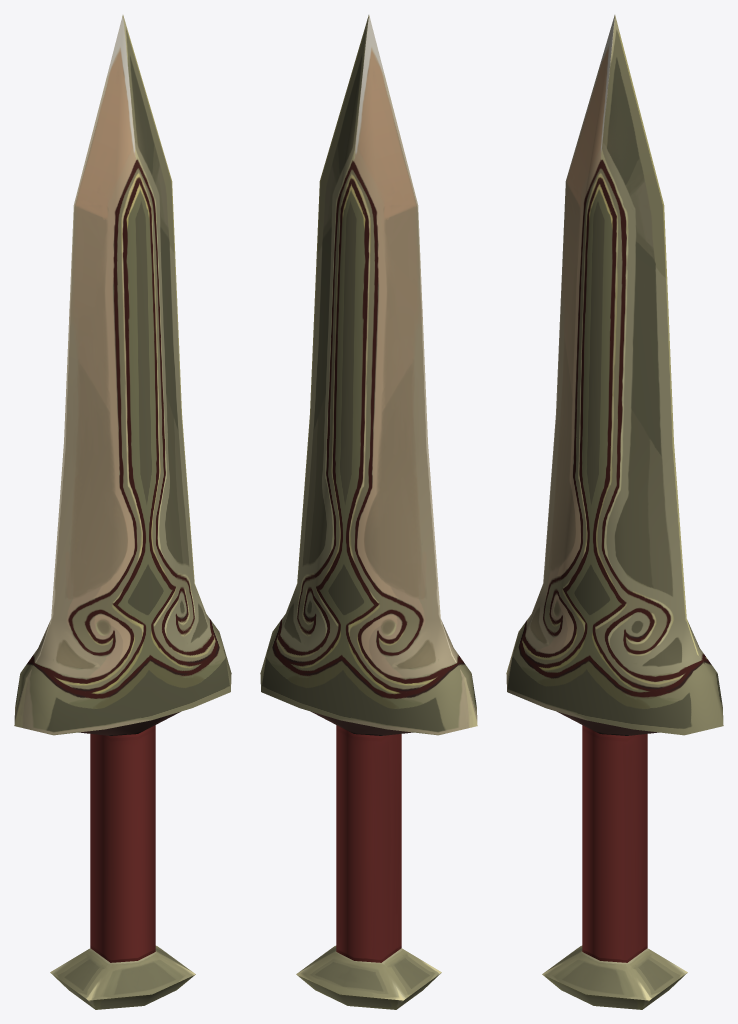
Rendered from wp_dagger_nlv20.fbx.
3 renders of one model, left to right at view 1: azimuth 30°, elevation 25°; view 2: azimuth 150°, elevation 25°; view 3: azimuth 330°, elevation 25°, orthographic.
Parts seen in each view (by area): view 1: wp_dagger_nlv20_01; view 2: wp_dagger_nlv20_01; view 3: wp_dagger_nlv20_01.
Boxes of the visible parts, box(x1,y1,x2,y2) form: wp_dagger_nlv20_01: box(14, 15, 231, 1009); wp_dagger_nlv20_01: box(260, 15, 477, 1009); wp_dagger_nlv20_01: box(506, 15, 723, 1009).
Size of the model in its own units: 20.9 by 89.83 by 9.69.
